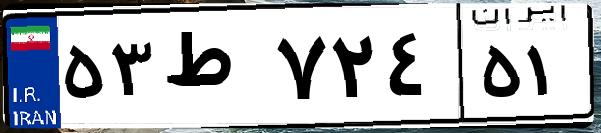1: (525, 38, 570, 115)
2: (330, 28, 385, 110)
3: (110, 28, 158, 98)
4: (385, 28, 445, 110)
5: (57, 26, 110, 100), (475, 38, 525, 113)
7: (270, 28, 330, 110)
ط: (158, 20, 270, 120)
